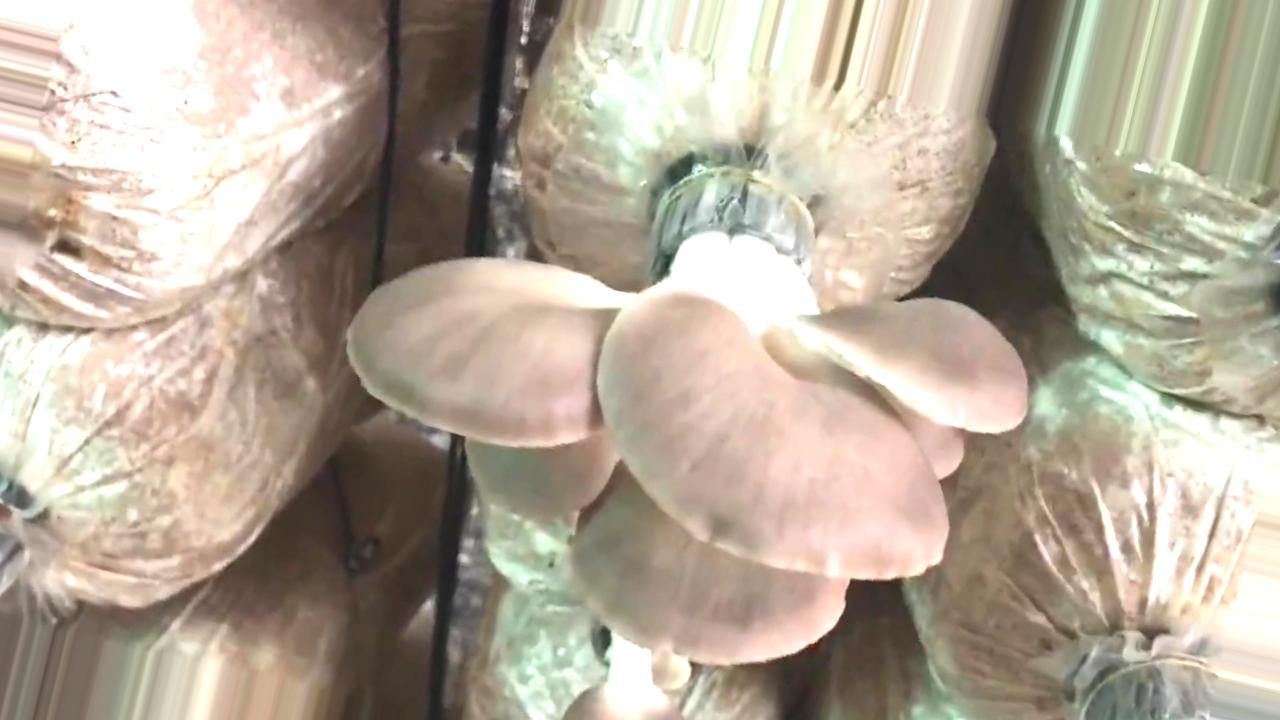nam: (350, 177, 1027, 661), (563, 623, 684, 719)
